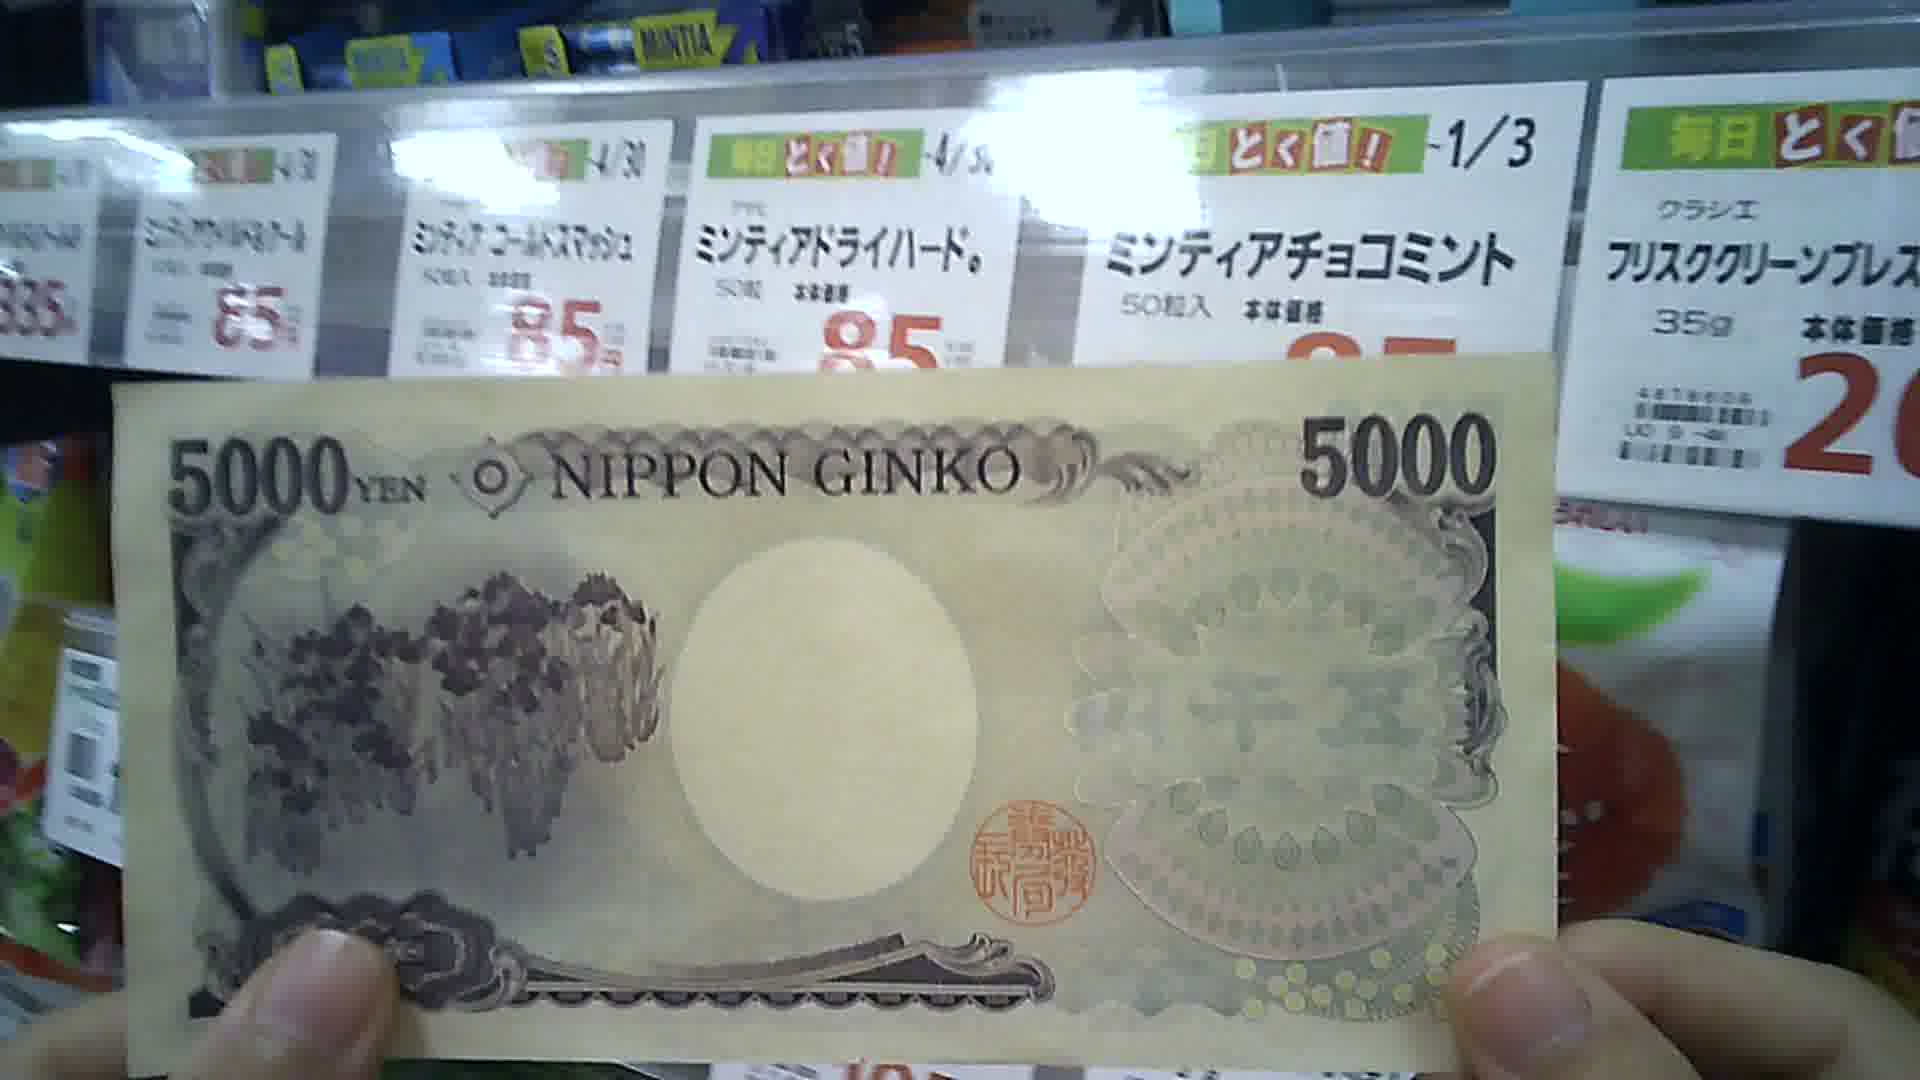5,000 Yen: (96, 343, 1509, 1079)
